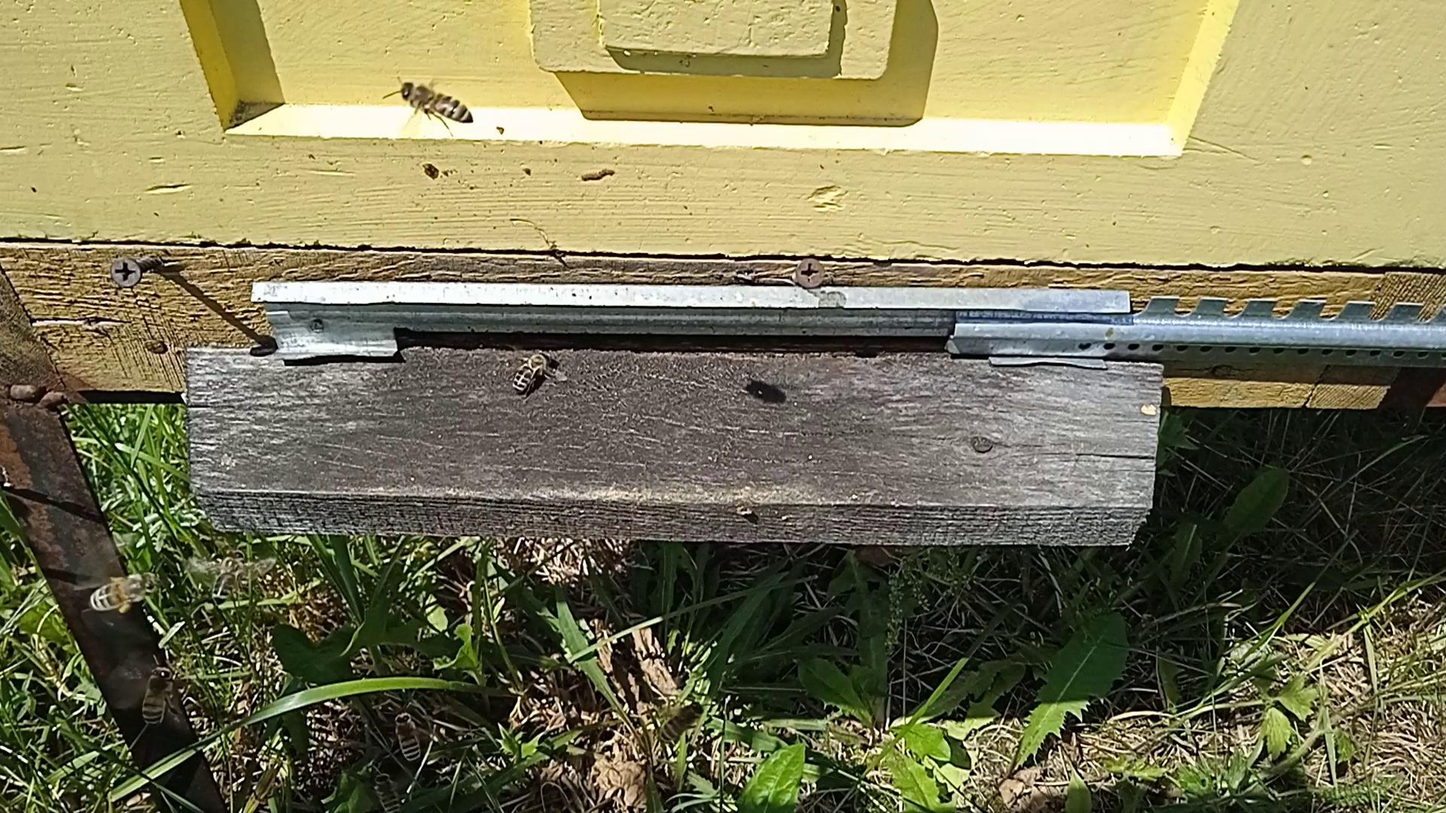worker-bee: (389, 81, 475, 124), (86, 571, 157, 616), (140, 667, 172, 728), (511, 349, 554, 394), (212, 550, 245, 604), (660, 703, 704, 742), (393, 711, 421, 763), (371, 772, 401, 813)
